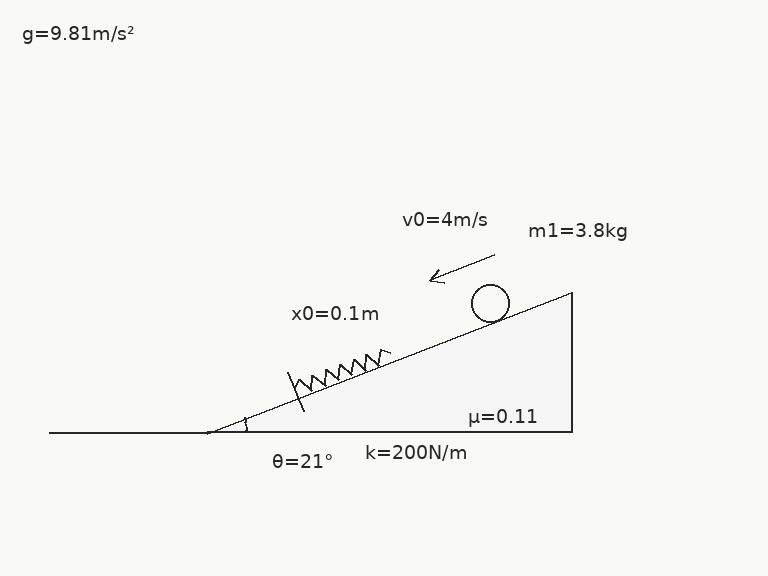ball: (469, 282, 511, 324)
ramp: (205, 290, 573, 434)
spring: (293, 346, 391, 392)
